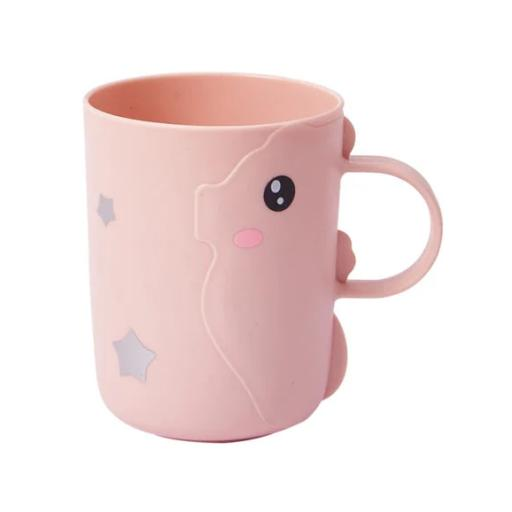cup: (85, 74, 441, 440)
